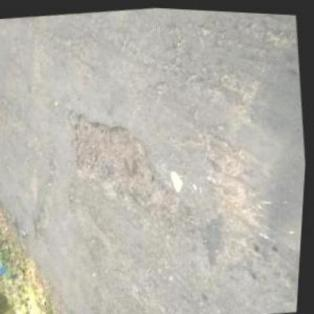Hueco: (63, 98, 174, 222), (32, 210, 51, 240)
